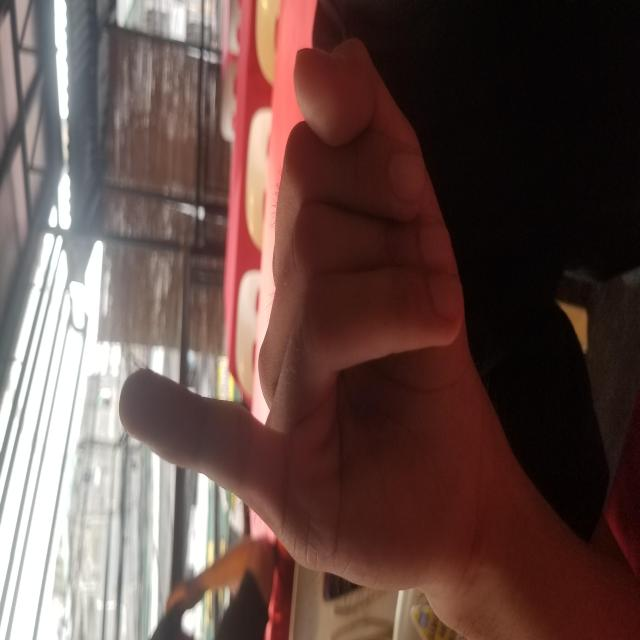I: (44, 114, 609, 480)
